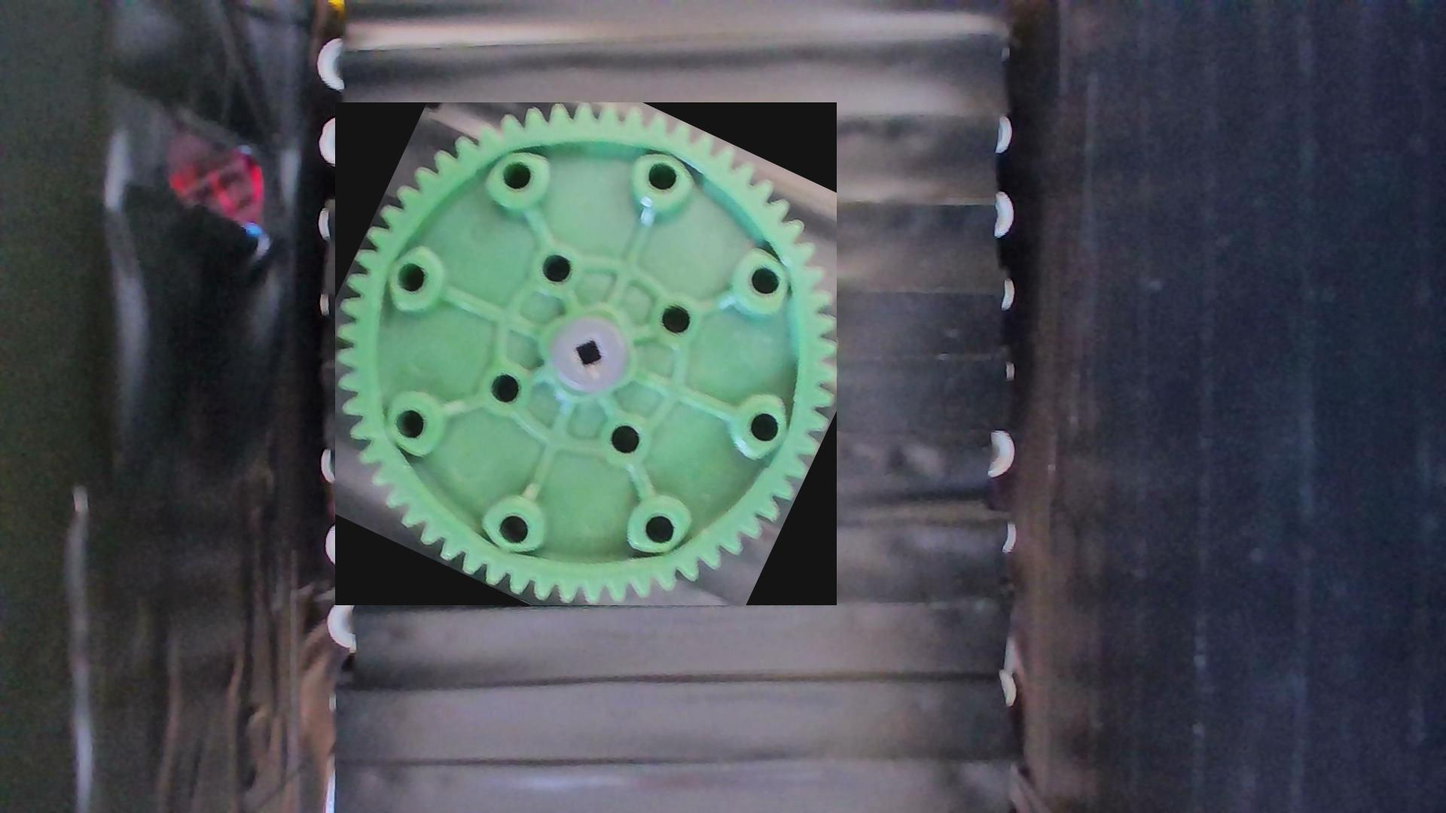gear: (335, 102, 837, 605)
